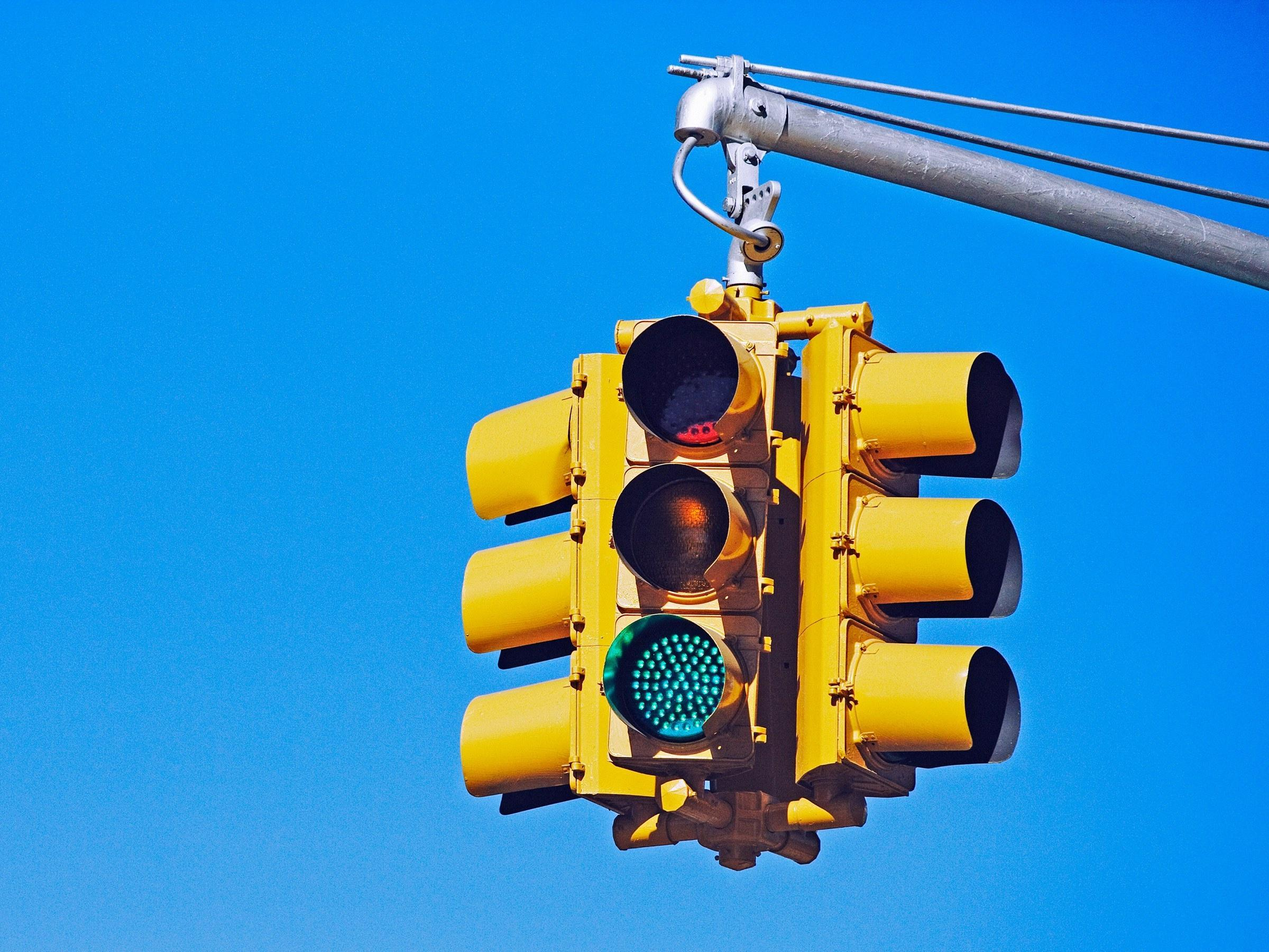green: (600, 299, 790, 801)
